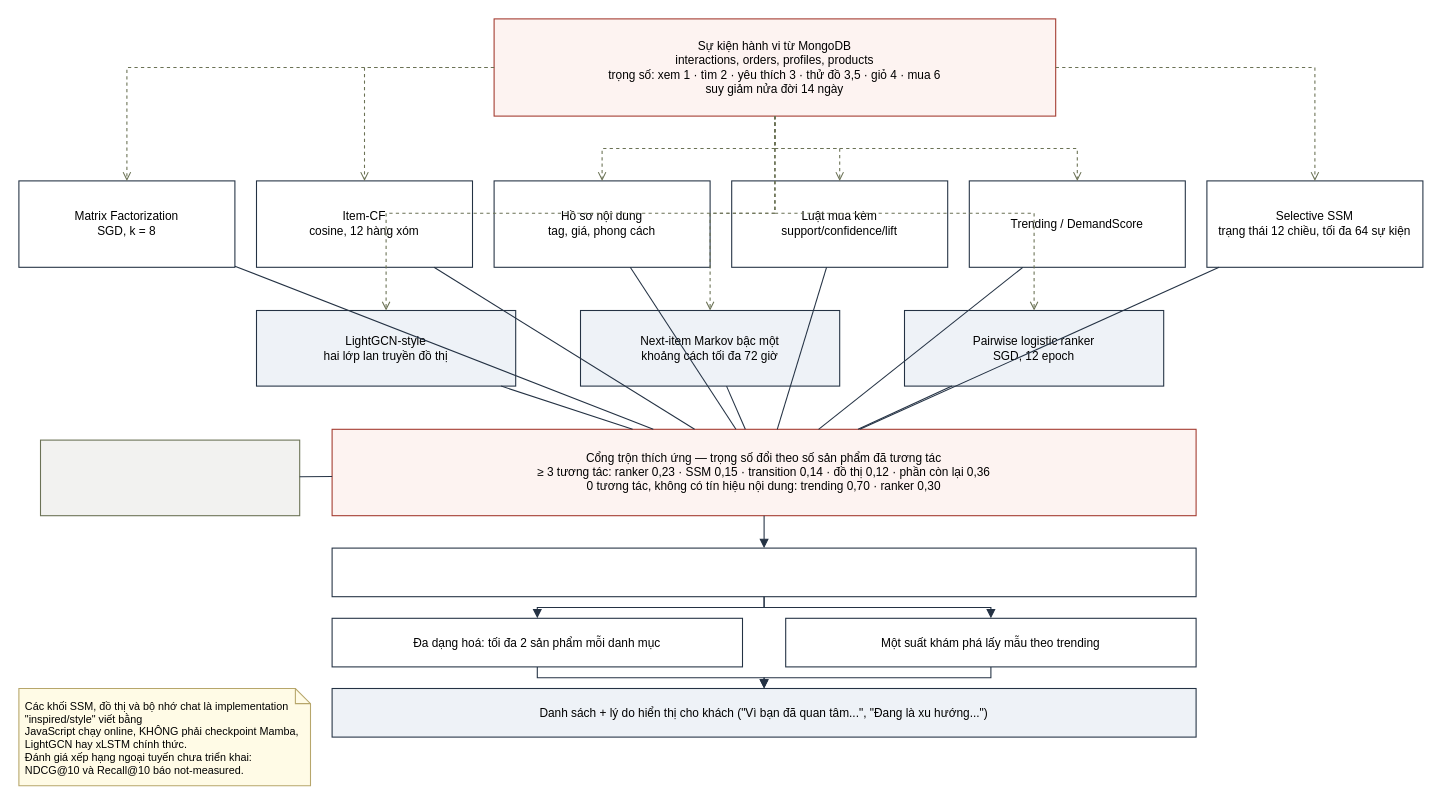
Some shapes in this 1442 by 805 pixel diagram are drawn without their labels. Each missing label, with the centre of its shape:
Trừ điểm feedback âm bỏ giỏ, bỏ yêu thích: −0,45 trước sigmoid: the point at 169,477
Xếp hạng chồng: logit = 0,7·logit(rank) + 2,2·(retrieval − 0,5) − 5·negative: the point at 763,572
